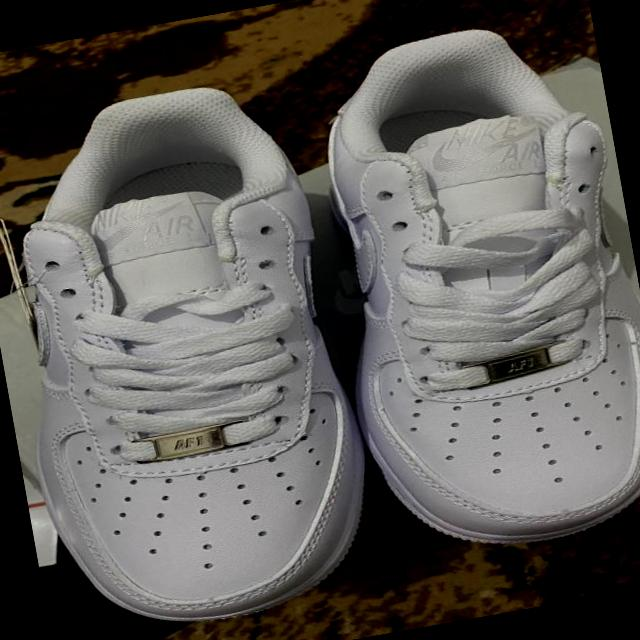nike_fake_airforce: (0, 66, 387, 640), (289, 6, 640, 572)
